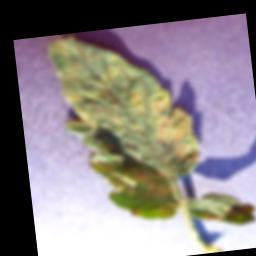Leaf_Mold: (46, 24, 207, 230), (203, 201, 256, 228)
